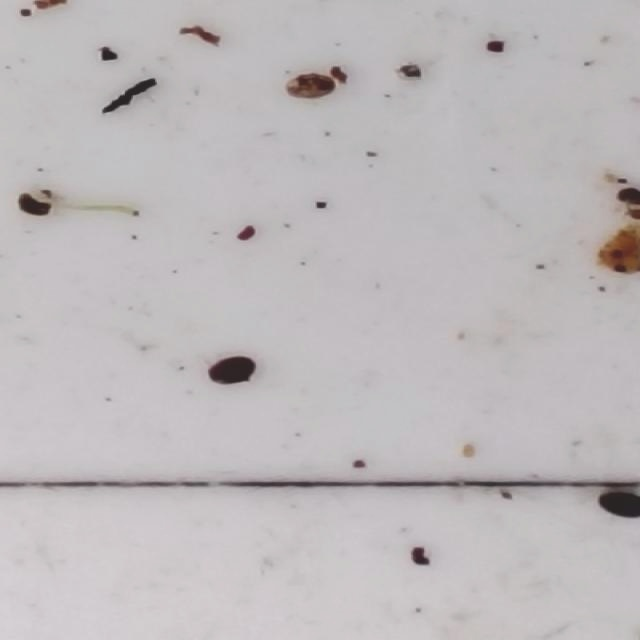varroa: (207, 354, 255, 384)
